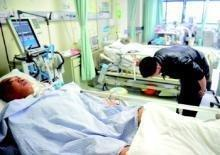bending: (139, 42, 215, 115)
down: (1, 70, 220, 155)
